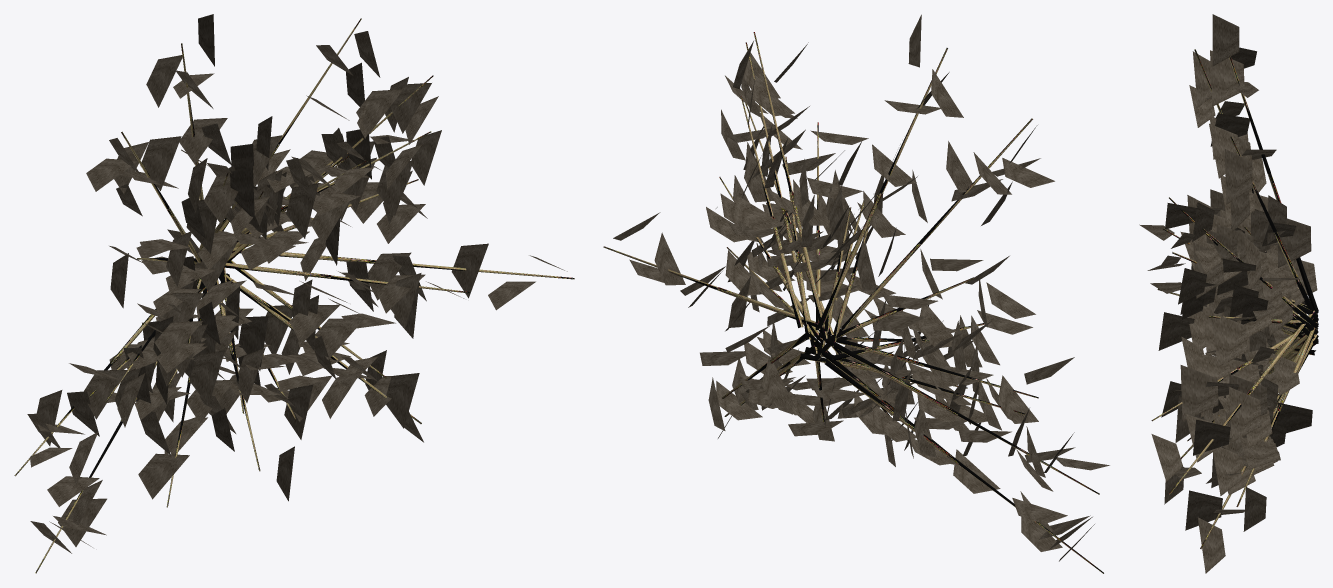
File: JUNIPER_local.glb
The picture shows the model from 3 angles, left to right: view 1: azimuth 30°, elevation 25°; view 2: azimuth 150°, elevation 25°; view 3: azimuth 270°, elevation 25°; orthographic projection. The views are drawn at different scales.
Parts seen in each view (by area): view 1: Leaves_AlphaMaskedCards, WoodyBranchNetwork; view 2: Leaves_AlphaMaskedCards, WoodyBranchNetwork; view 3: Leaves_AlphaMaskedCards, WoodyBranchNetwork.
Part boxes in pixels (box(x1,y1,x2,y2)): Leaves_AlphaMaskedCards: box(27, 14, 567, 553); WoodyBranchNetwork: box(14, 18, 574, 573); Leaves_AlphaMaskedCards: box(613, 14, 1109, 561); WoodyBranchNetwork: box(603, 32, 1103, 573); Leaves_AlphaMaskedCards: box(1139, 14, 1317, 573); WoodyBranchNetwork: box(1151, 49, 1318, 549).
Size of the model in its own units: 1.91 by 1.78 by 0.5819.
2 materials, 2 textured.
